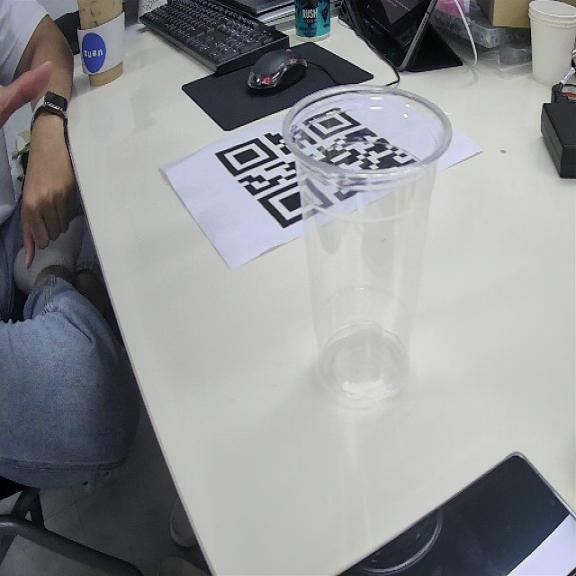Plastik: (282, 86, 451, 400)
